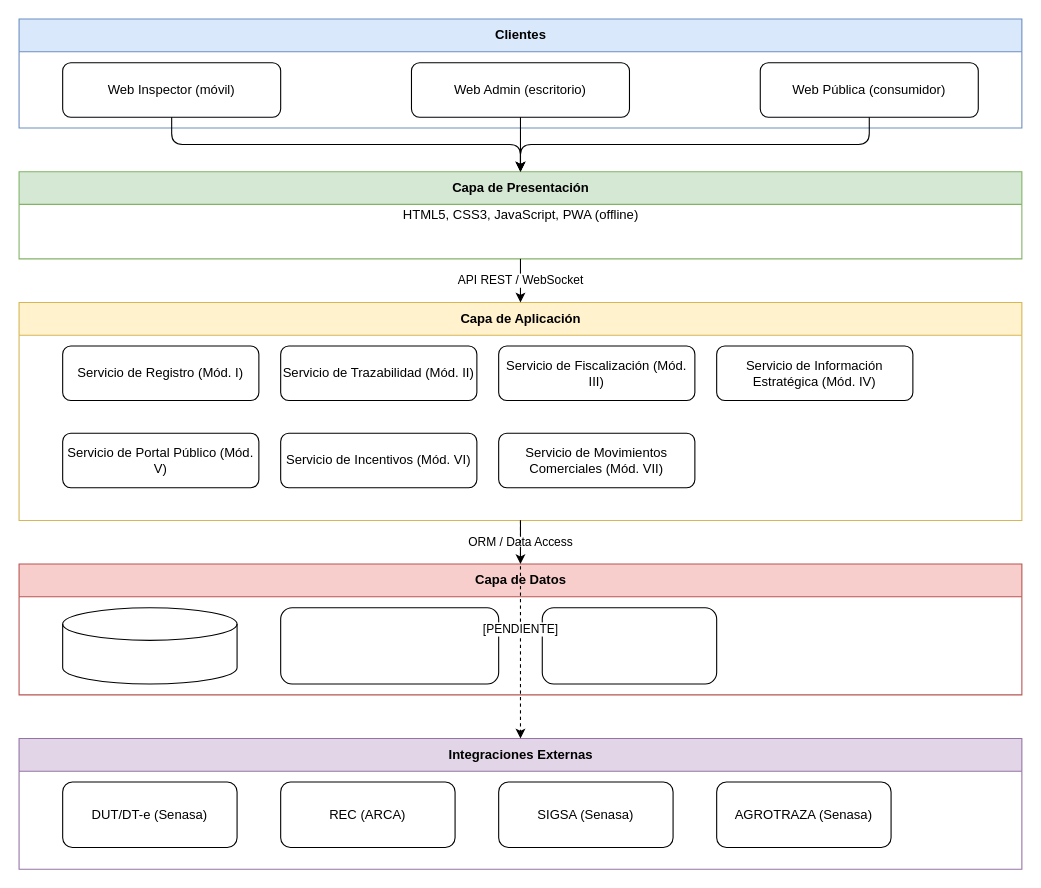
Image size: 1041x888. Some labels were removed from this diagram. The shapes that lost their labels are listed below. From the top down, each one's centre as x and y in pixels, then its label:
(x=149, y=645): Base de Datos (PostgreSQL)
(x=389, y=645): Almacén Local (IndexedDB/LocalStorage)
(x=629, y=645): Almacén de Evidencias (fotos)
